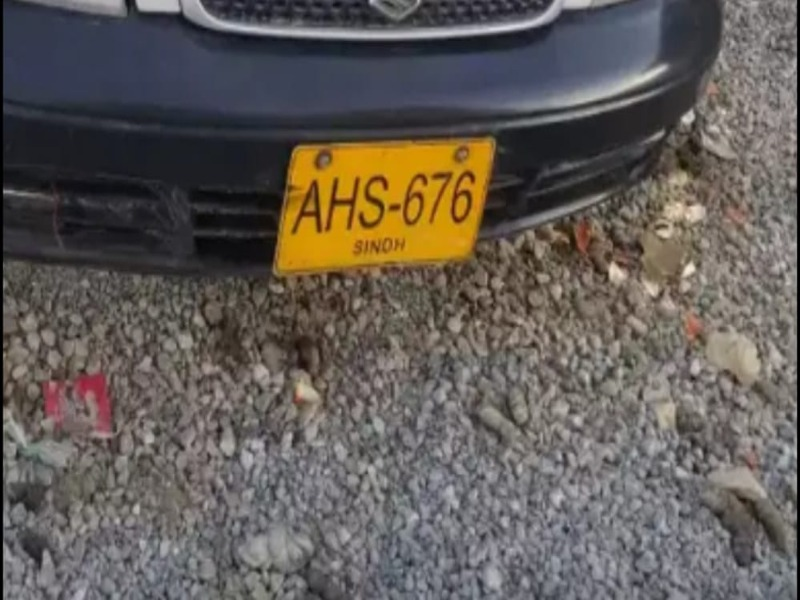License Plate: (281, 141, 494, 266)
